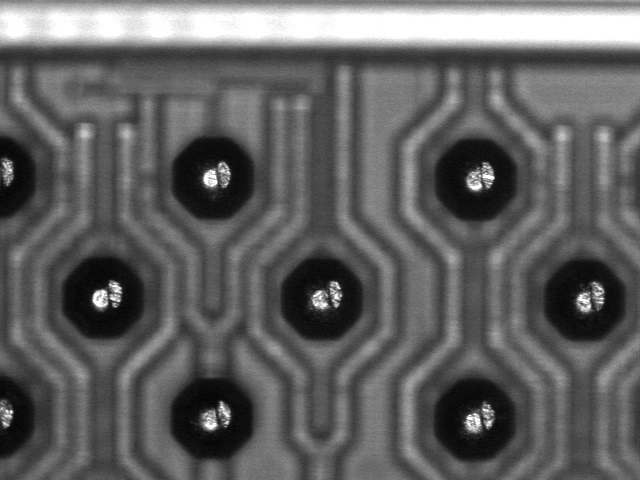shift: (272, 253, 375, 345), (426, 134, 529, 226), (531, 253, 634, 345), (425, 371, 528, 463), (163, 134, 262, 222), (54, 252, 153, 340), (163, 373, 262, 461)
